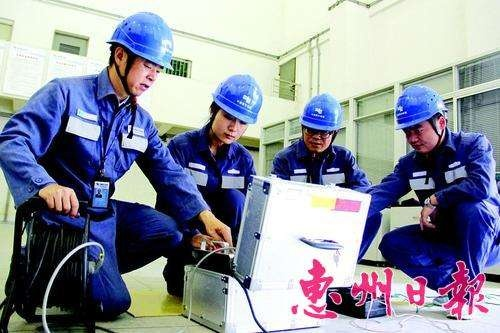blue: (109, 12, 174, 97), (394, 83, 450, 152), (210, 74, 264, 145), (300, 92, 346, 152)
